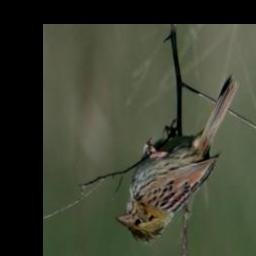Sparrow: (113, 72, 243, 247)
